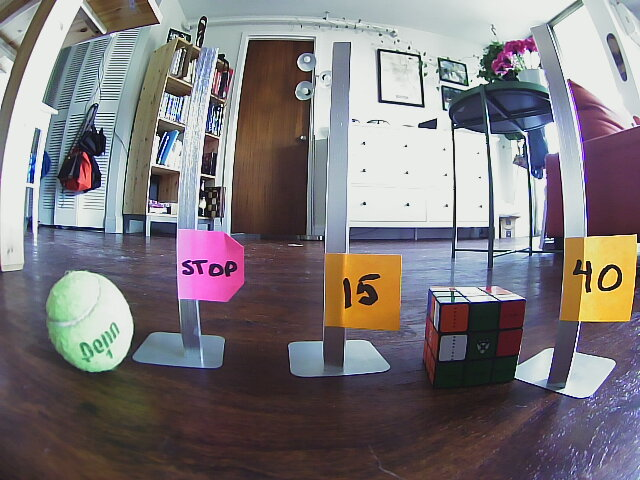15: (325, 257, 401, 326)
40: (564, 236, 632, 320)
ball: (46, 269, 133, 372)
cube: (424, 282, 525, 385)
stop: (178, 239, 240, 298)
